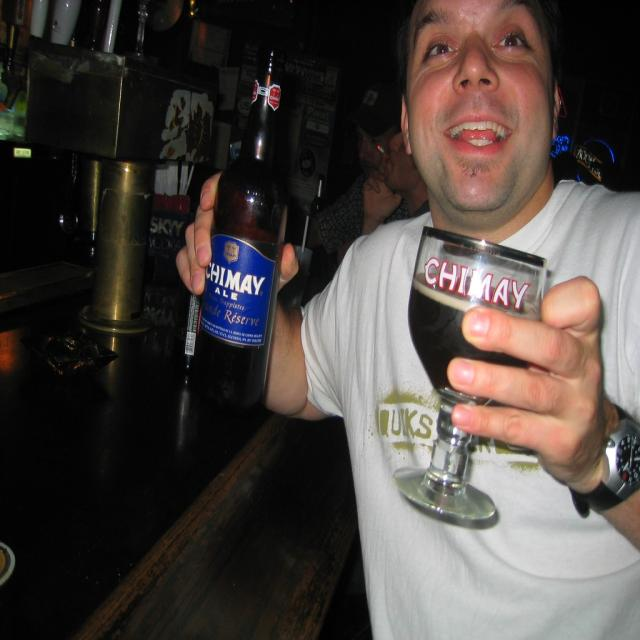chimay: (201, 233, 277, 350), (422, 256, 533, 313)
